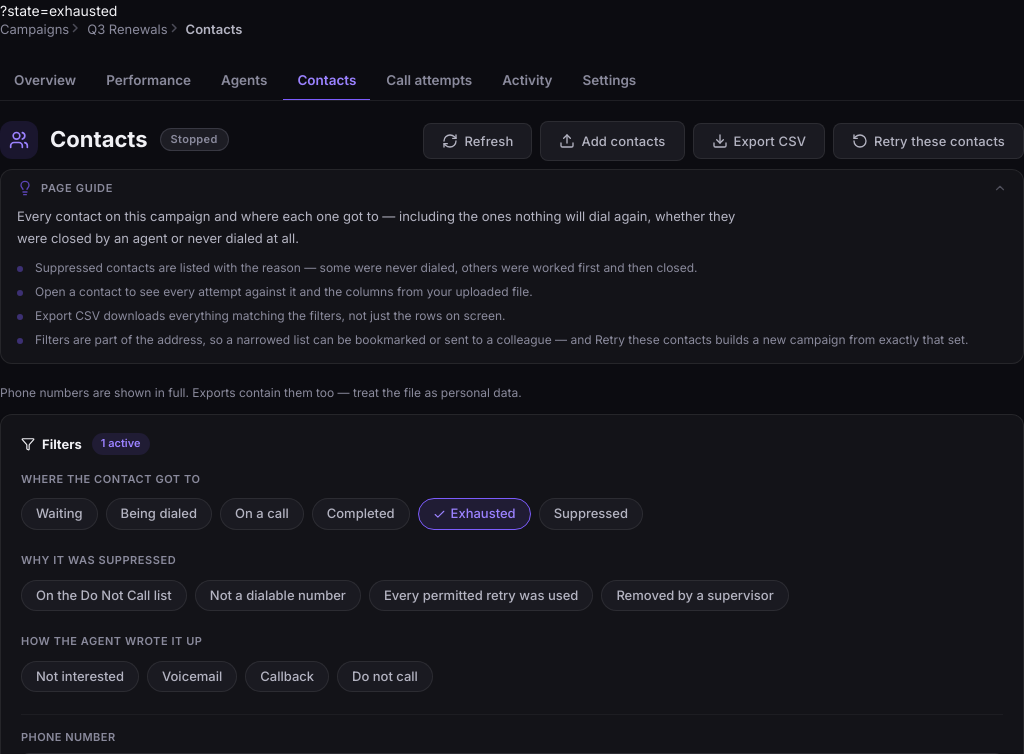
Scenario: Retry these contacts › surfaces the DNC and invalid exclusions on the preview
Click the button with test id "roster-retry-action" at (929, 141), box [833,123,1023,159]
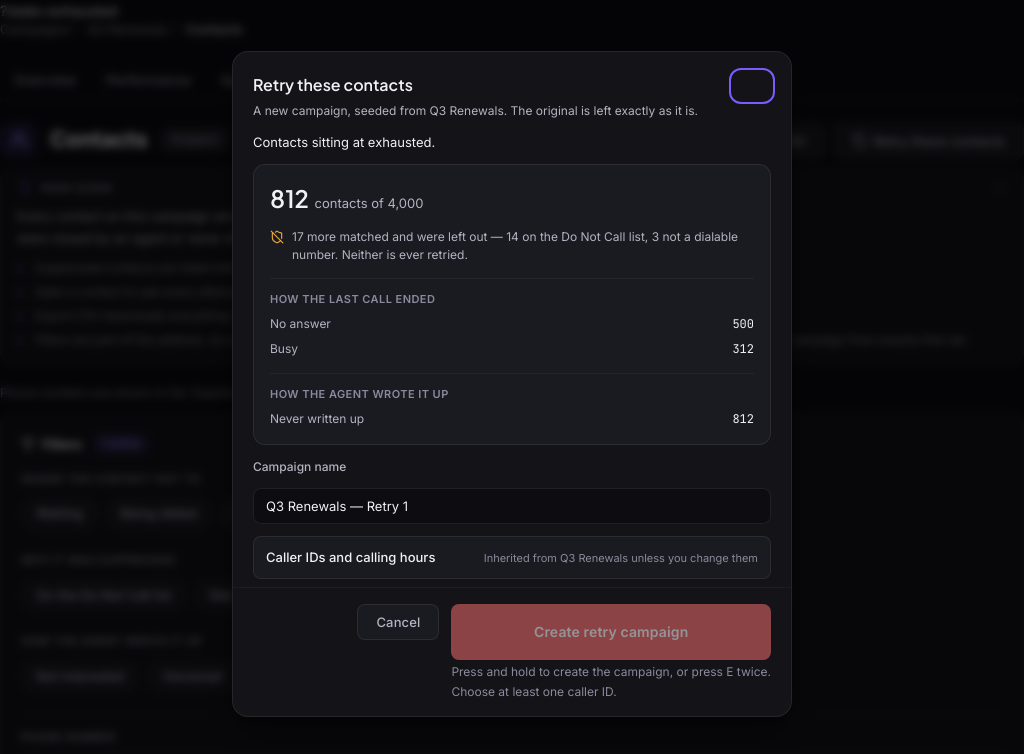
Result: the element with test id "retry-excluded" shows "Do Not Call" at [488,229,645,244]
Result: the element with test id "retry-excluded" shows "14" at [488,229,645,244]
